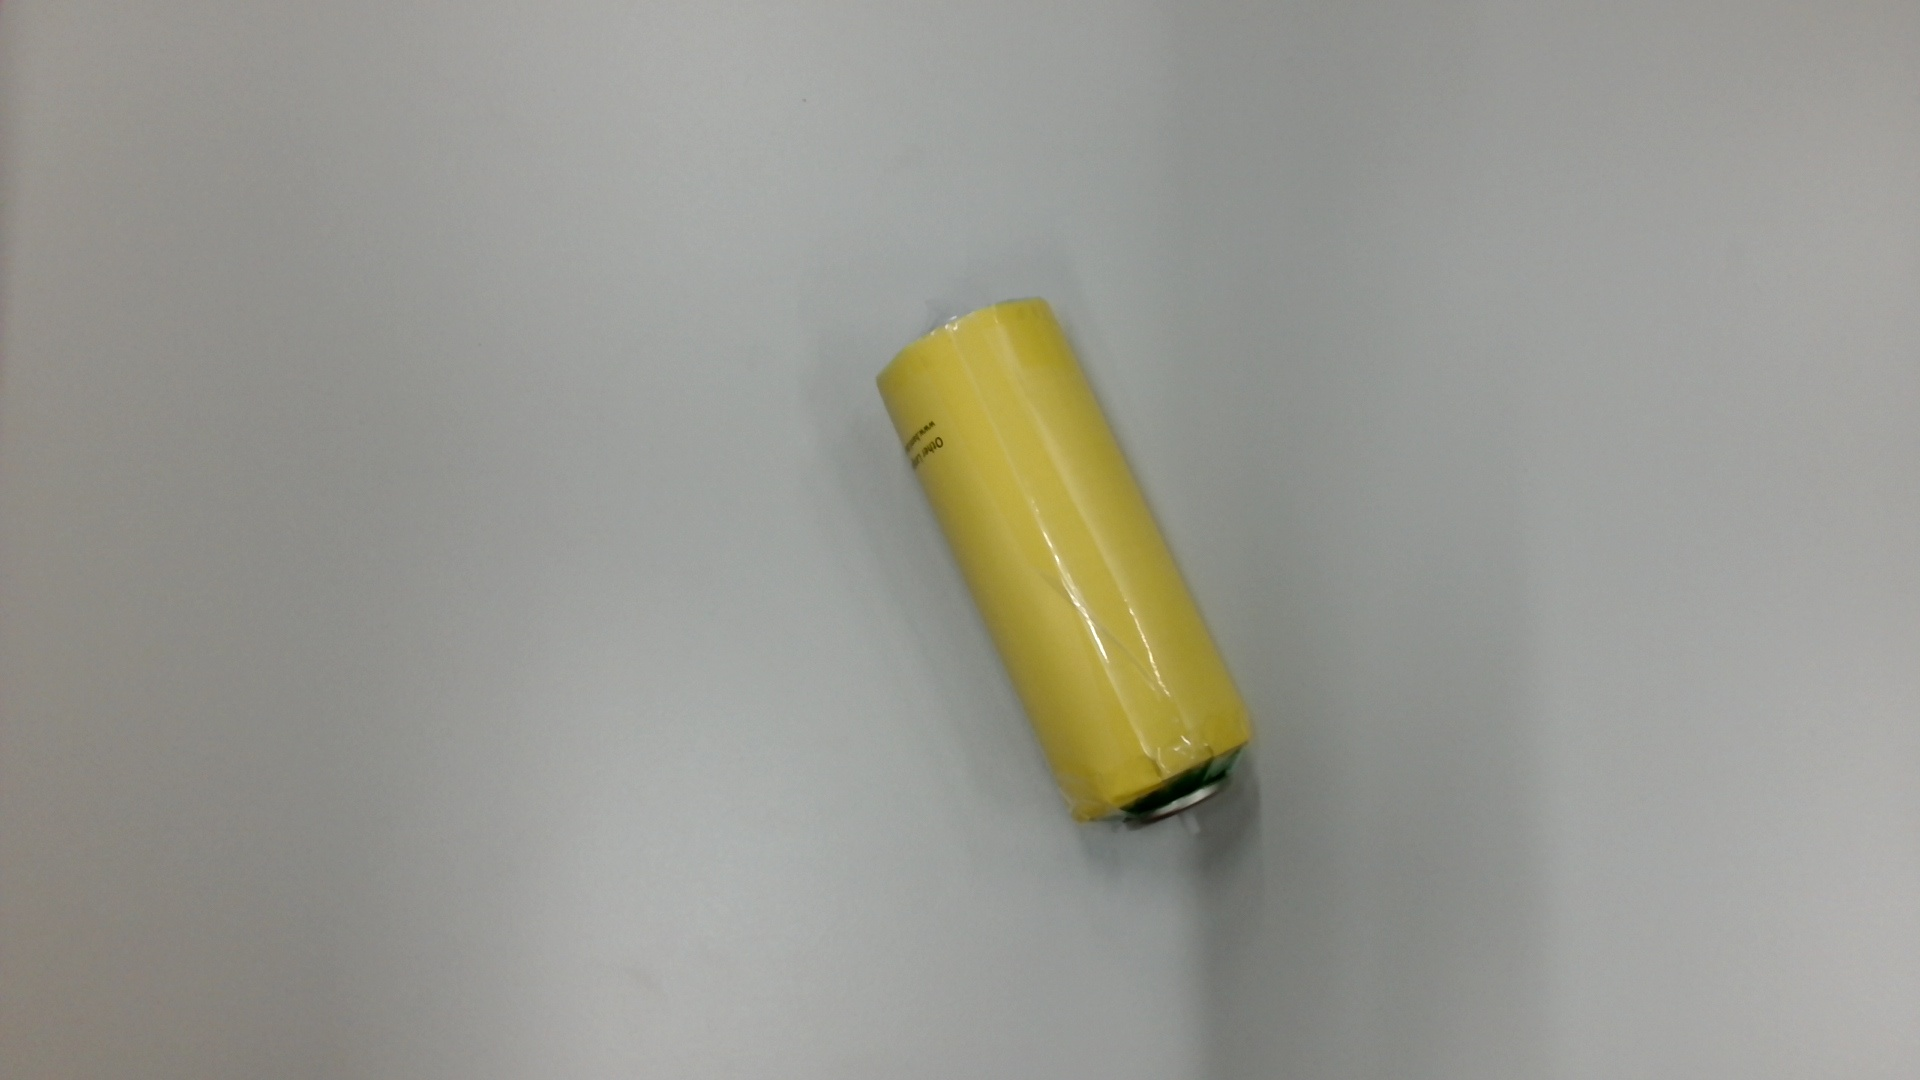Cylinder: (868, 285, 1269, 844)
